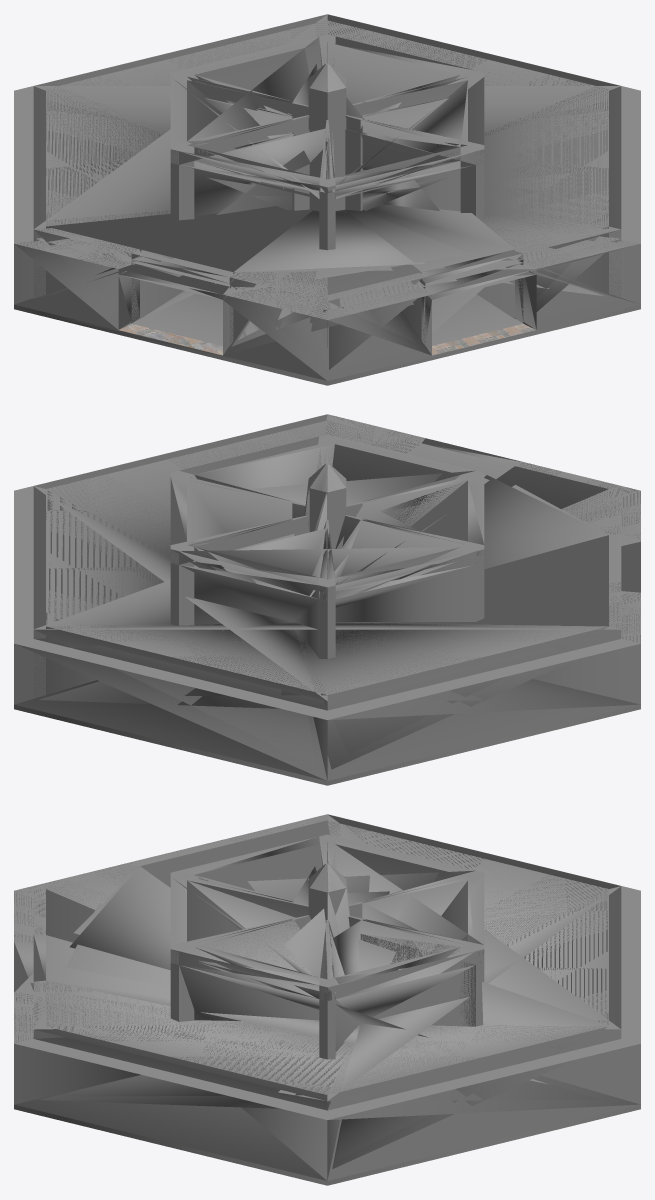
The picture shows the model from 3 angles, top to bottom: view 1: azimuth 30°, elevation 25°; view 2: azimuth 150°, elevation 25°; view 3: azimuth 270°, elevation 25°; orthographic projection.
Visible parts, largest first — view 1: Cylinder012; view 2: Cylinder012; view 3: Cylinder012.
Boxes of the visible parts, left/top/right/bottom form: Cylinder012: left=14, top=14, right=640, bottom=385; Cylinder012: left=14, top=414, right=640, bottom=785; Cylinder012: left=14, top=814, right=640, bottom=1185.
Bounding box in the file's own units: 140 × 36 × 121.
Materials: 4 (1 with a texture image).
